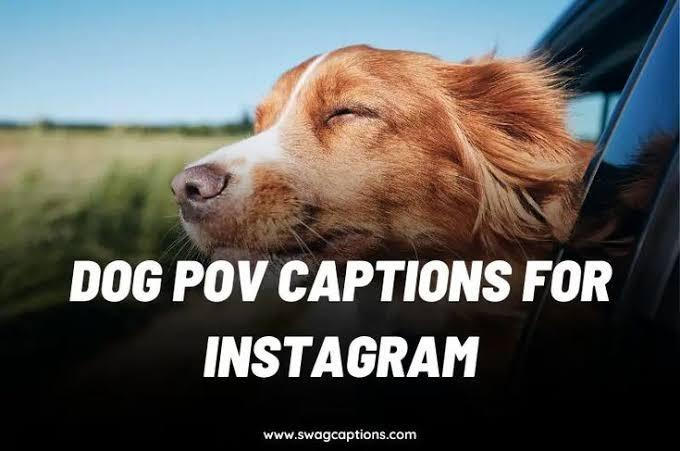adult_dog: (168, 43, 598, 317)
